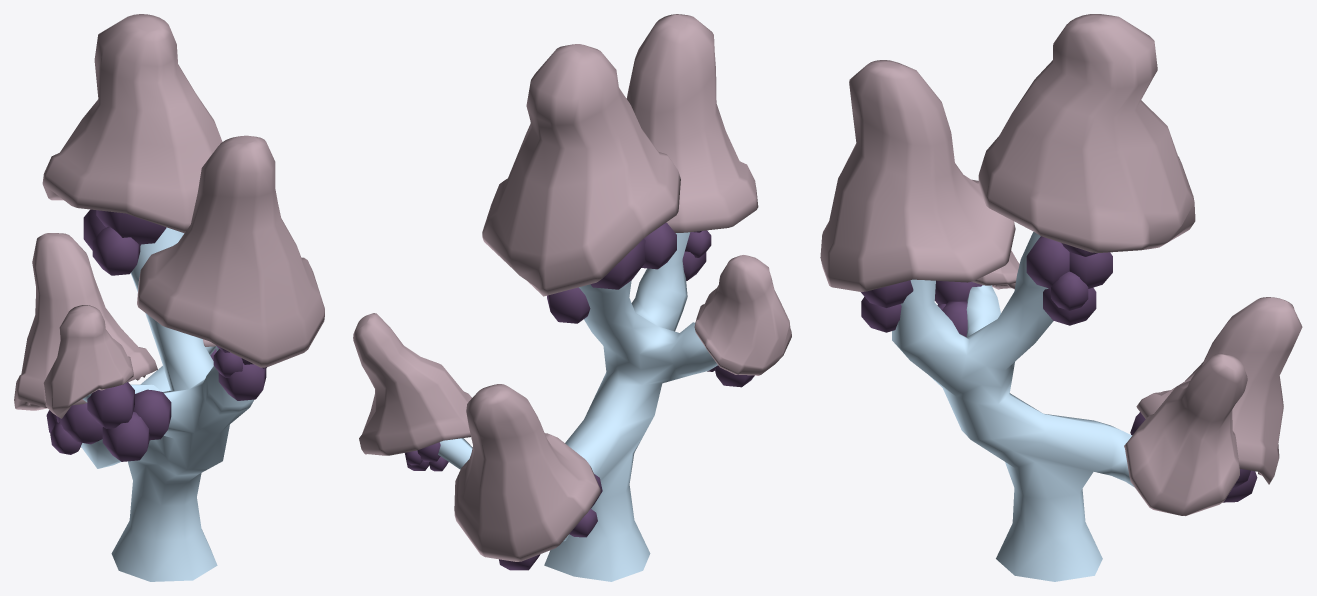
File: Mushroom1_Alex.fbx
3 views of the same model, side by side, from view 1: azimuth 30°, elevation 25°; view 2: azimuth 150°, elevation 25°; view 3: azimuth 270°, elevation 25° (orthographic). The views are drawn at different scales.
Parts seen in each view (by area): view 1: polySurface17; view 2: polySurface17; view 3: polySurface17.
Part boxes in pixels (bbox=[...]): polySurface17: bbox=[14, 14, 324, 581]; polySurface17: bbox=[353, 14, 791, 581]; polySurface17: bbox=[820, 14, 1302, 581].
Bounding box in the file's own units: 8.8 × 14.04 × 11.33.
